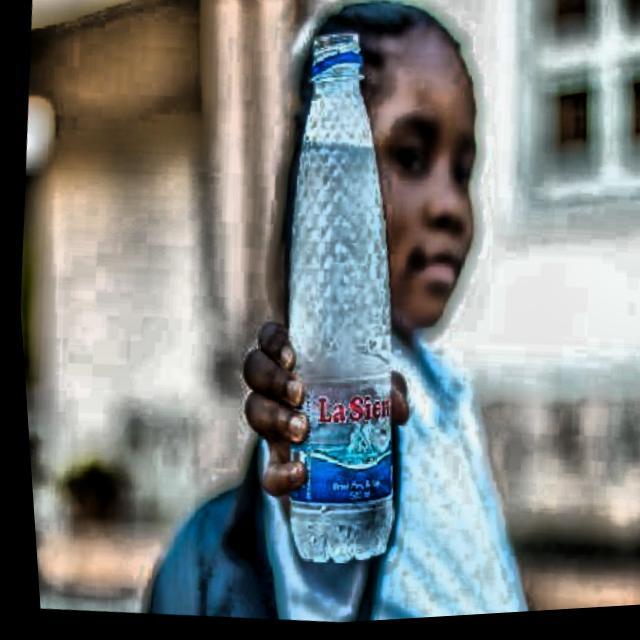Bottles: (214, 10, 454, 594)
